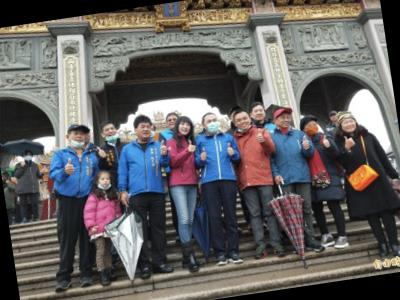mask_weared_incorrect: (68, 131, 87, 148), (234, 114, 252, 131), (103, 126, 118, 143), (97, 175, 112, 190)
with_mask: (203, 117, 221, 134), (303, 121, 320, 136), (24, 153, 33, 163)
without_mask: (340, 118, 358, 134), (135, 123, 153, 139), (177, 119, 193, 136), (276, 114, 293, 129), (251, 108, 266, 122), (166, 116, 181, 130), (329, 113, 339, 123)
